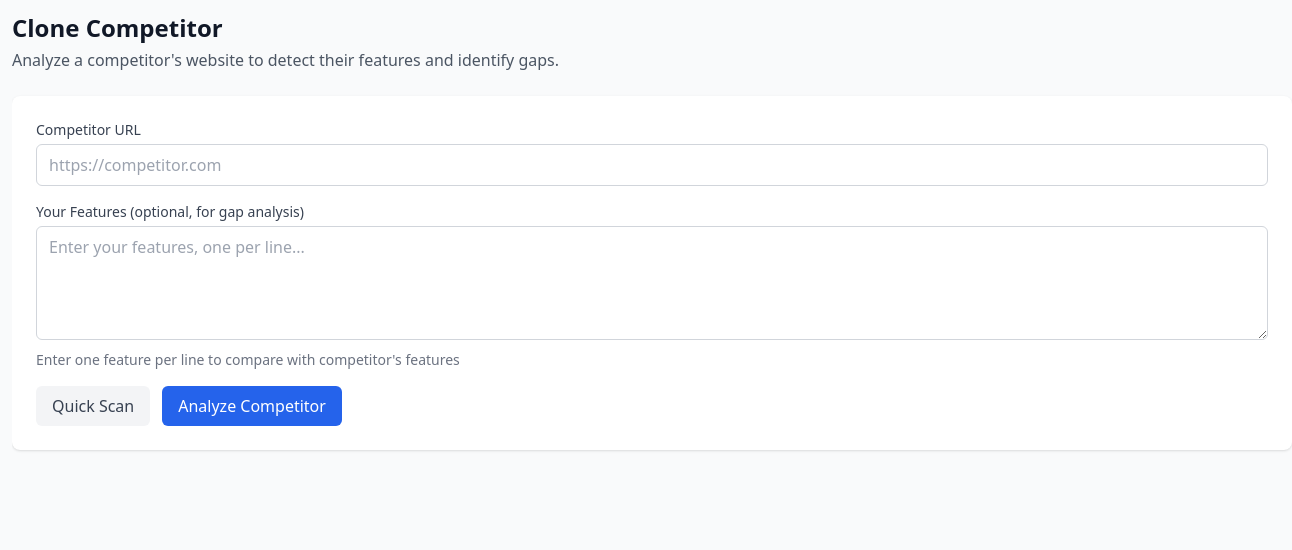
Test: ClonePage › should display error when quick scan URL is empty
The image size is (1292, 550).
Click the button "Quick Scan" at {"x": 93, "y": 406}, box [36,386,150,426]
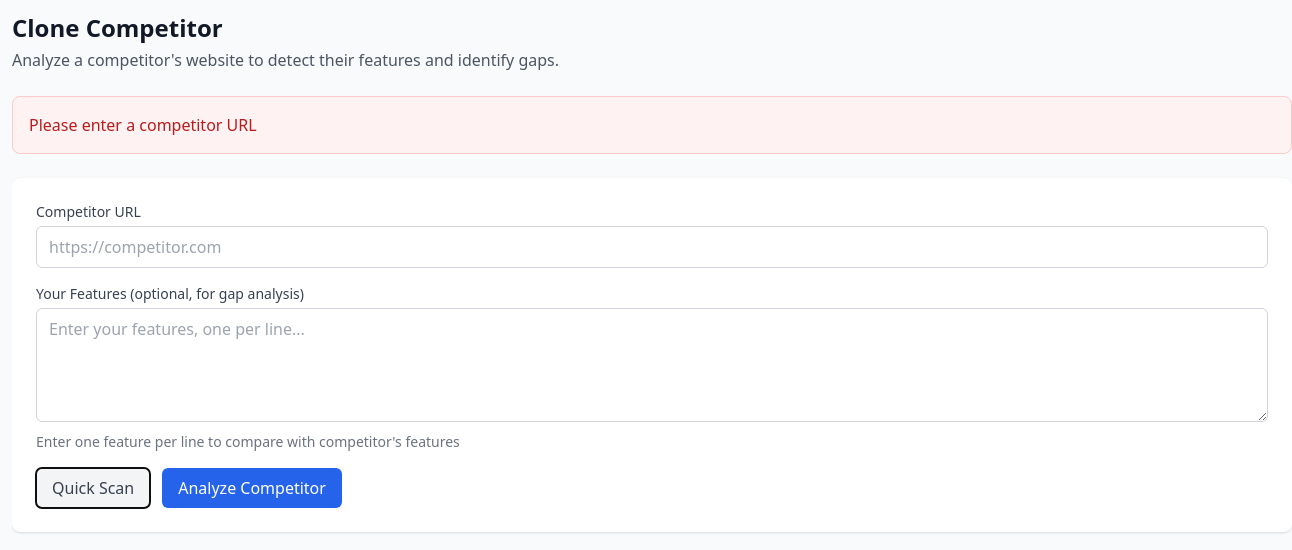
Expected: the text "Please enter a competitor URL" is shown, [29,114,257,136]
